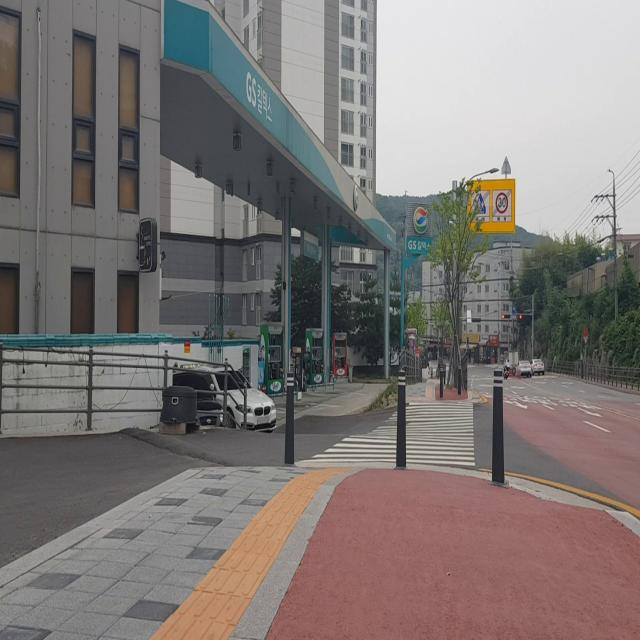횡단보도: (298, 400, 477, 476)
